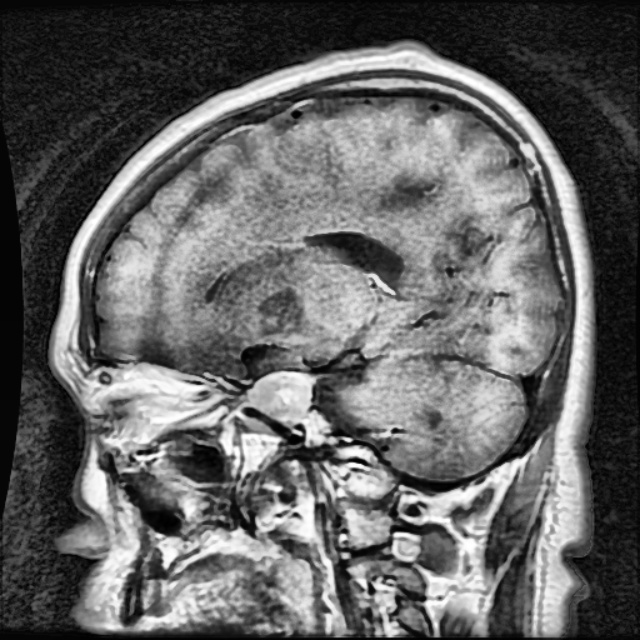Pituitary: (248, 372, 328, 442)
